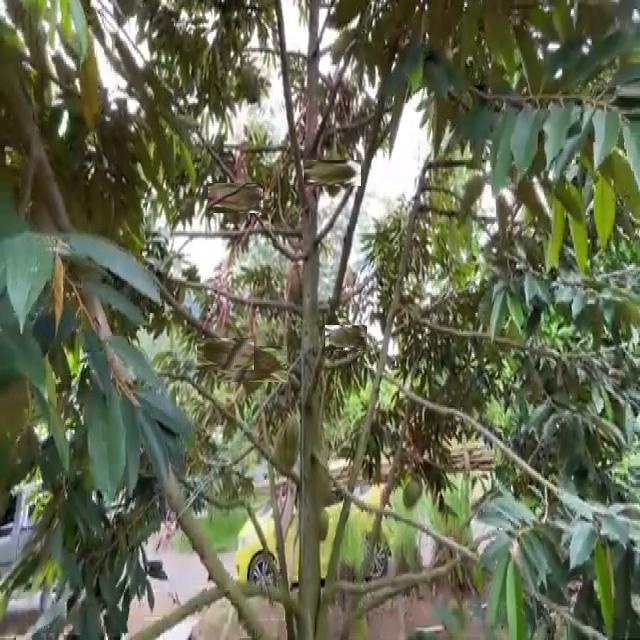durian: (225, 338, 279, 391), (271, 406, 304, 478), (203, 331, 248, 376), (312, 152, 354, 194), (215, 177, 257, 219), (329, 321, 363, 356), (401, 473, 425, 514), (312, 507, 333, 543)
